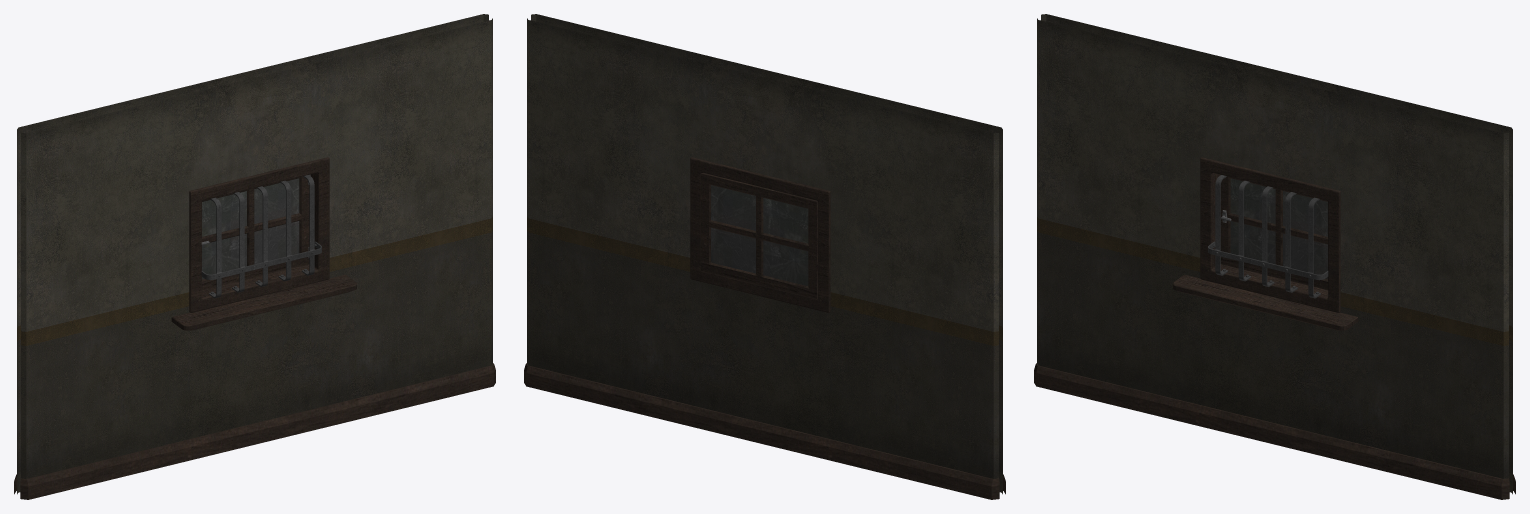
File: window_1_single.obj
The picture shows the model from 3 angles, left to right: view 1: azimuth 30°, elevation 25°; view 2: azimuth 150°, elevation 25°; view 3: azimuth 330°, elevation 25°; orthographic projection.
Visible parts, largest first — view 1: window_1_single, metal_bars_single; view 2: window_1_single; view 3: window_1_single, metal_bars_single.
Boxes of the visible parts, bbox=[...] form: window_1_single: bbox=[14, 14, 495, 499]; metal_bars_single: bbox=[201, 175, 321, 298]; window_1_single: bbox=[524, 14, 1005, 499]; window_1_single: bbox=[1034, 14, 1515, 499]; metal_bars_single: bbox=[1208, 175, 1328, 298].
Bounding box in the file's own units: 4.09 × 3 × 0.35.
